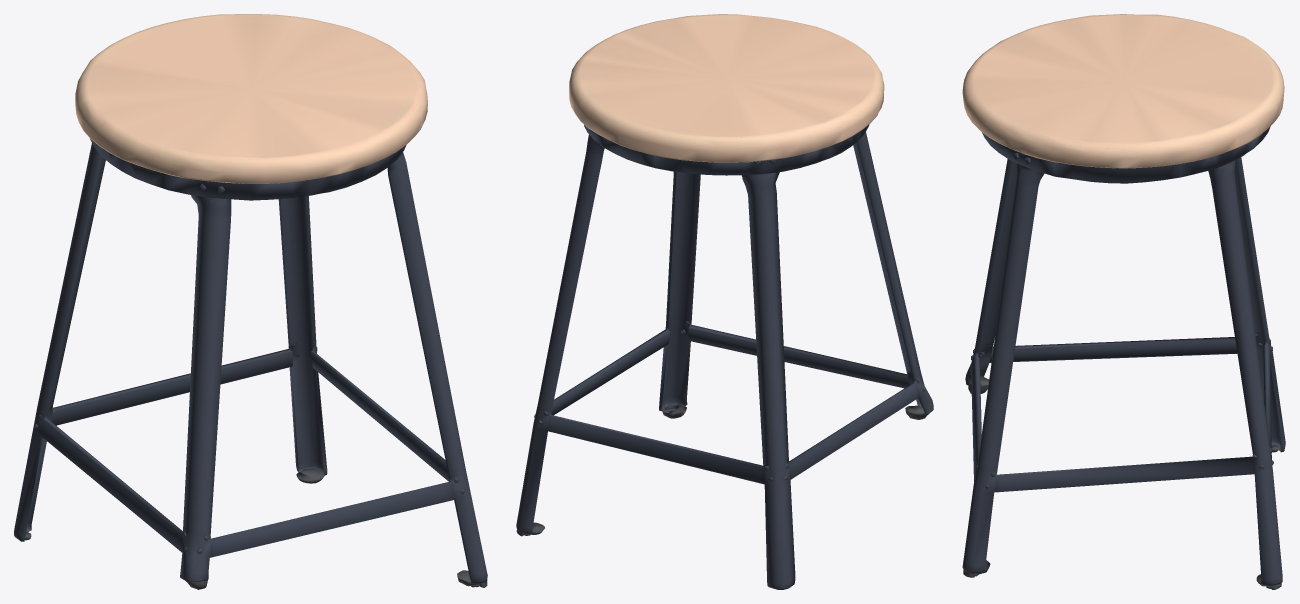
Rendered from industrial-wood-bar-stool.glb.
The picture shows the model from 3 angles, left to right: view 1: azimuth 30°, elevation 25°; view 2: azimuth 150°, elevation 25°; view 3: azimuth 270°, elevation 25°; orthographic projection. The views are drawn at different scales.
Visible parts, largest first — view 1: Industrial Wood Bar Stool; view 2: Industrial Wood Bar Stool; view 3: Industrial Wood Bar Stool.
Boxes of the visible parts, x1,y1,x2,y2 form: Industrial Wood Bar Stool: [14, 14, 487, 589]; Industrial Wood Bar Stool: [516, 14, 933, 589]; Industrial Wood Bar Stool: [962, 14, 1285, 589].
Bounding box in the file's own units: 0.6543 × 0.998 × 0.6543.
Materials: 1 (1 with a texture image).
